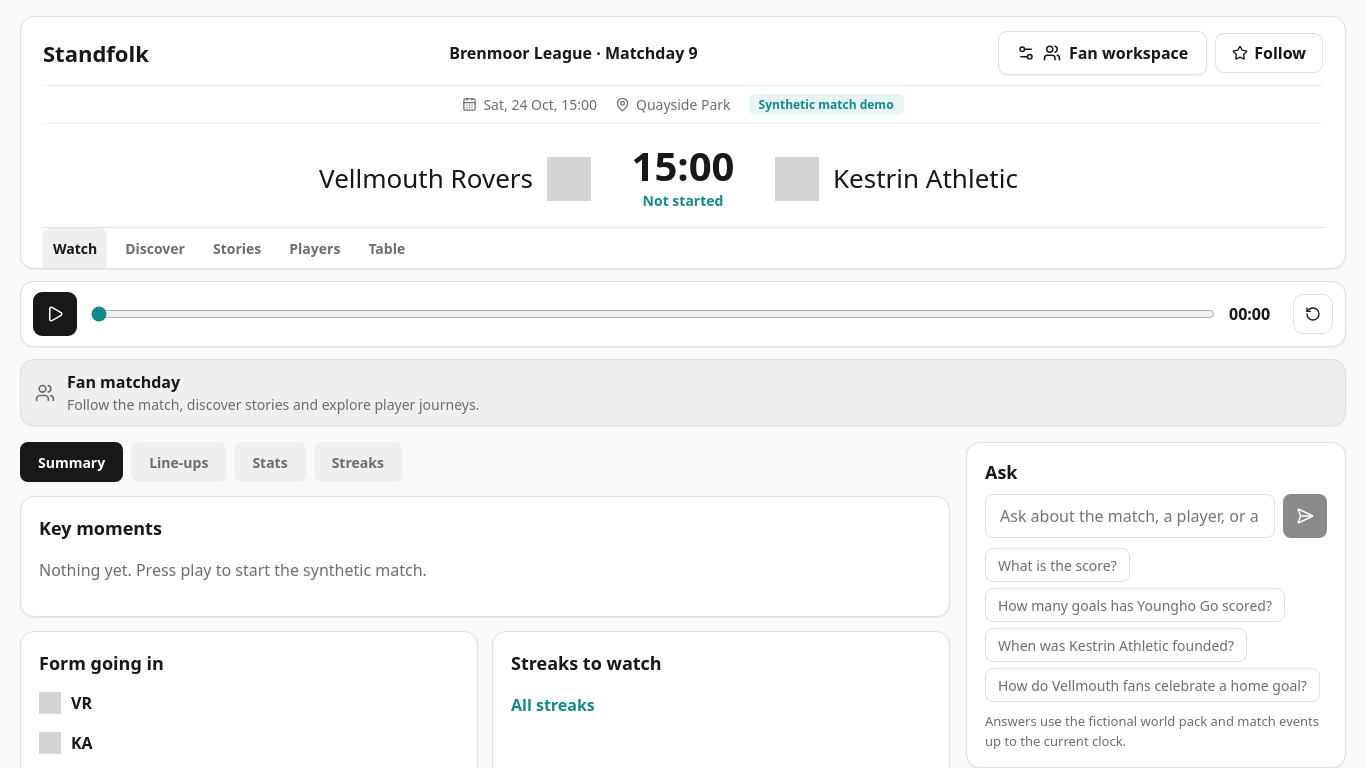
match page › explains the league, its words, and the data date under the table
The image size is (1366, 768).
Click the tab "Table" at (387, 248), box [358,228,415,268]
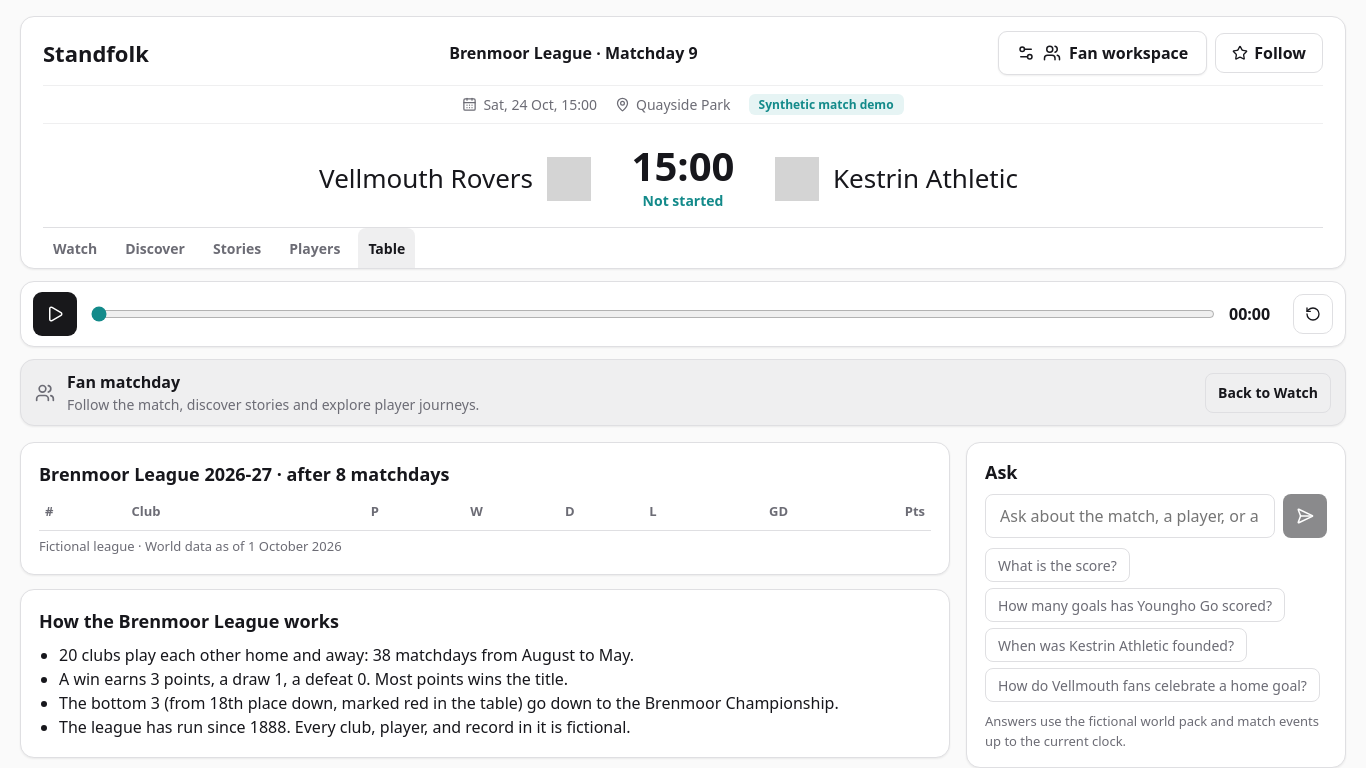
expect the heading "How the Brenmoor League works" is shown: met, box [39,609,339,633]
expect the list item "The bottom 3 (from 18th place down" is shown: met, box [59,692,839,714]
expect the text "Fictional league · World data as of 1 October 2026" is shown: met, box [39,536,342,554]
